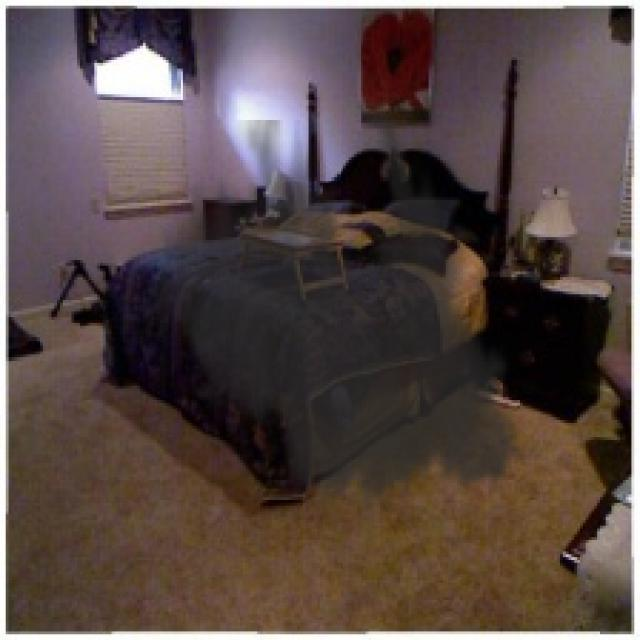Smoke: (140, 120, 537, 523)
